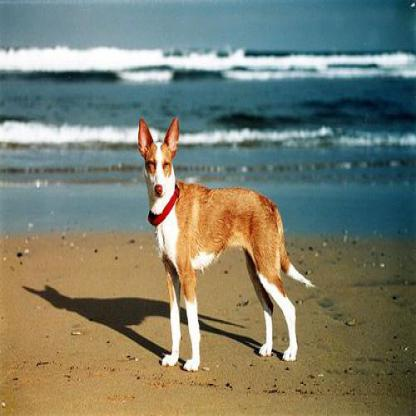dog: (128, 110, 318, 372)
